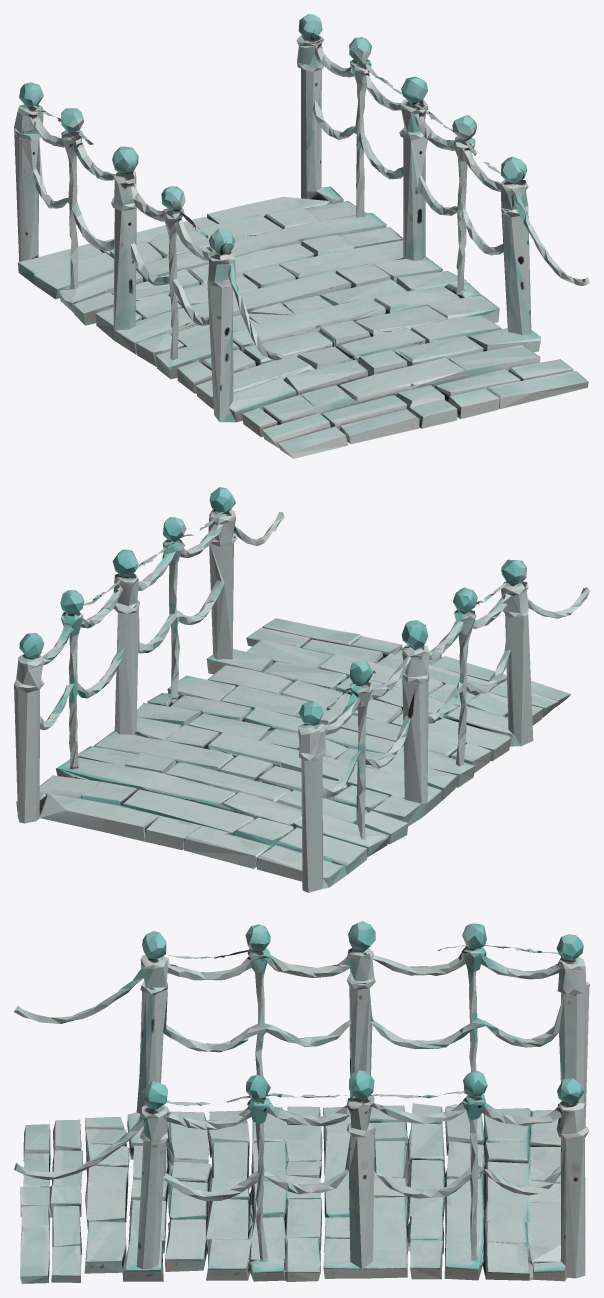
Rendered from st-bridge.glb.
3 views of the same model, one above another, from view 1: azimuth 30°, elevation 25°; view 2: azimuth 150°, elevation 25°; view 3: azimuth 270°, elevation 25° (orthographic). The views are drawn at different scales.
Bounding box in the file's own units: 1.31 × 0.7606 × 1.92.
Materials: 1 (1 with a texture image).
